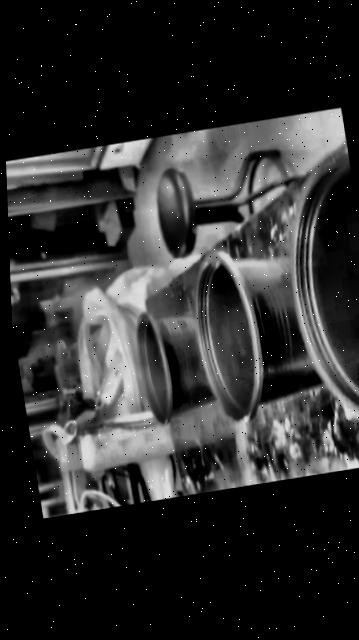pot: (273, 149, 359, 429), (193, 250, 320, 421), (134, 313, 212, 423)
